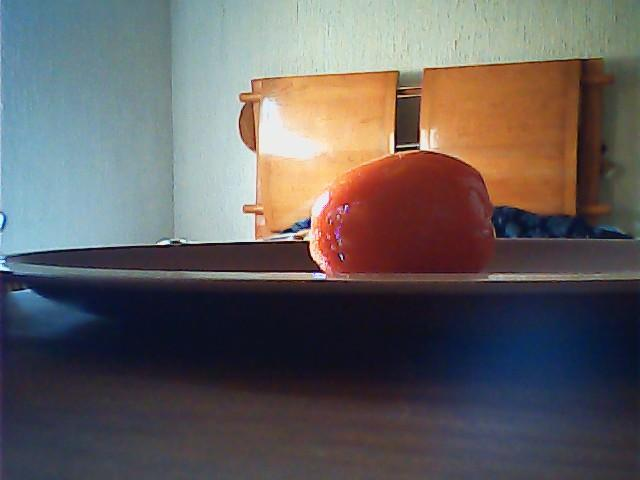maduro: (308, 149, 493, 274)
